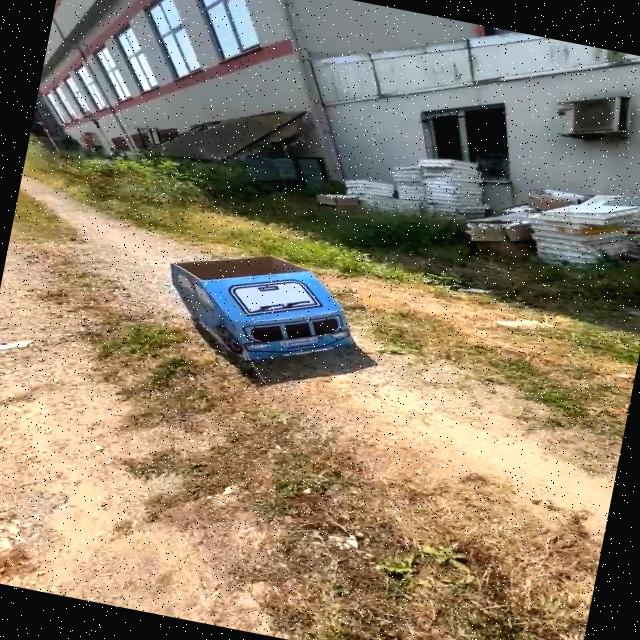blue_car: (118, 218, 411, 408)
